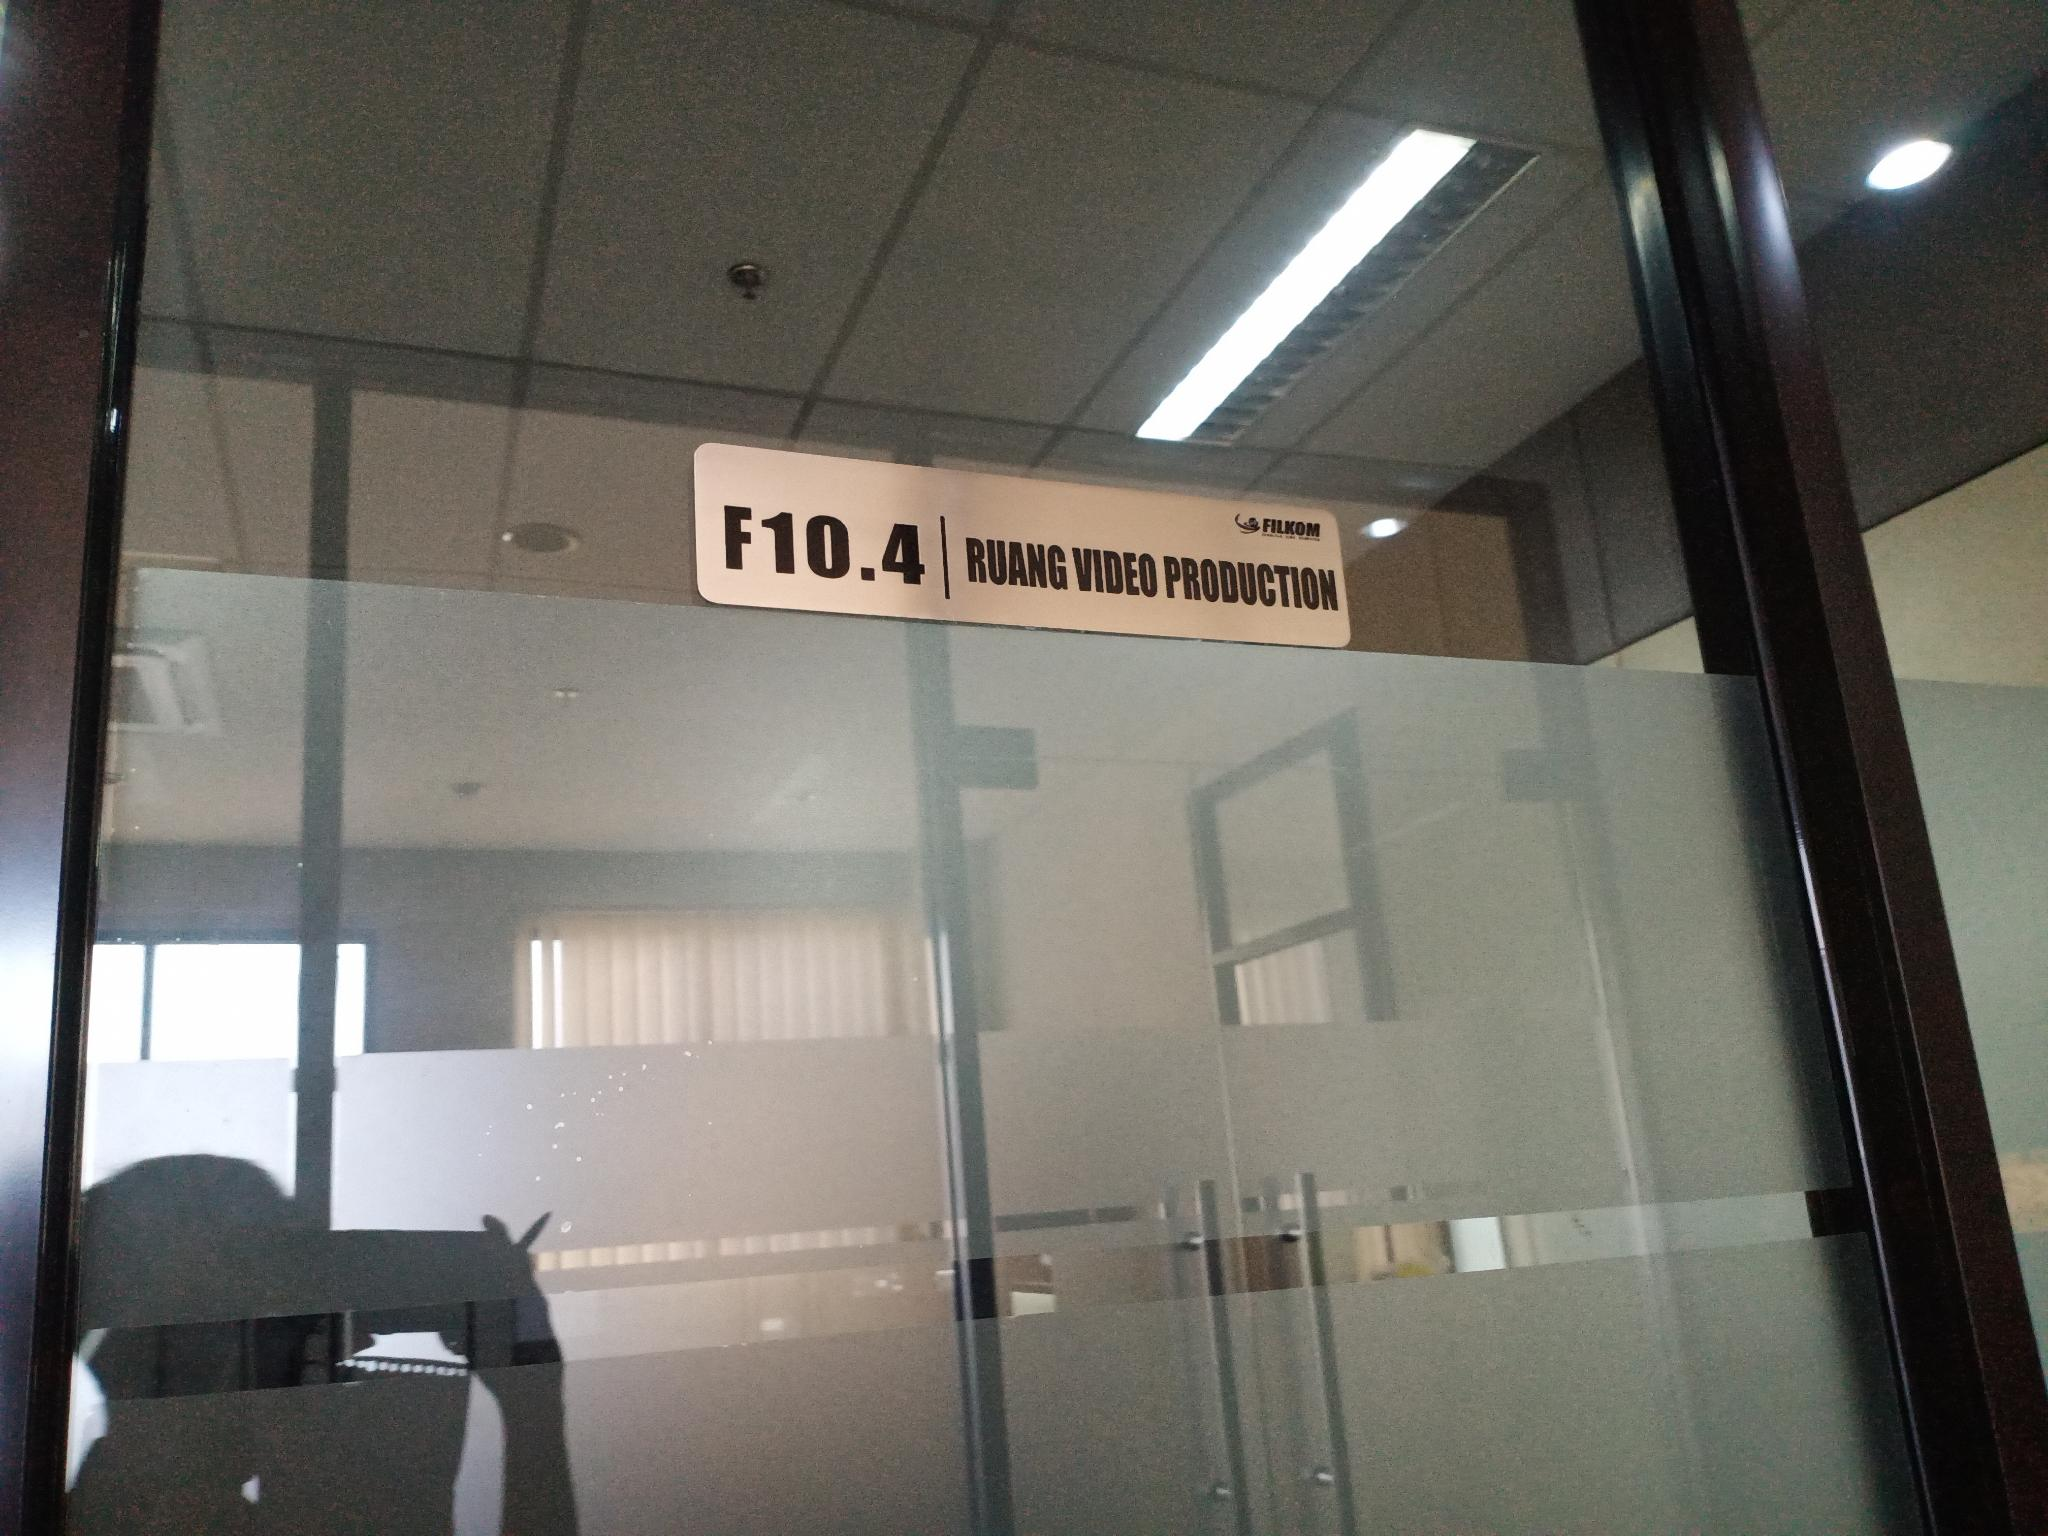plate: (692, 434, 1355, 650)
